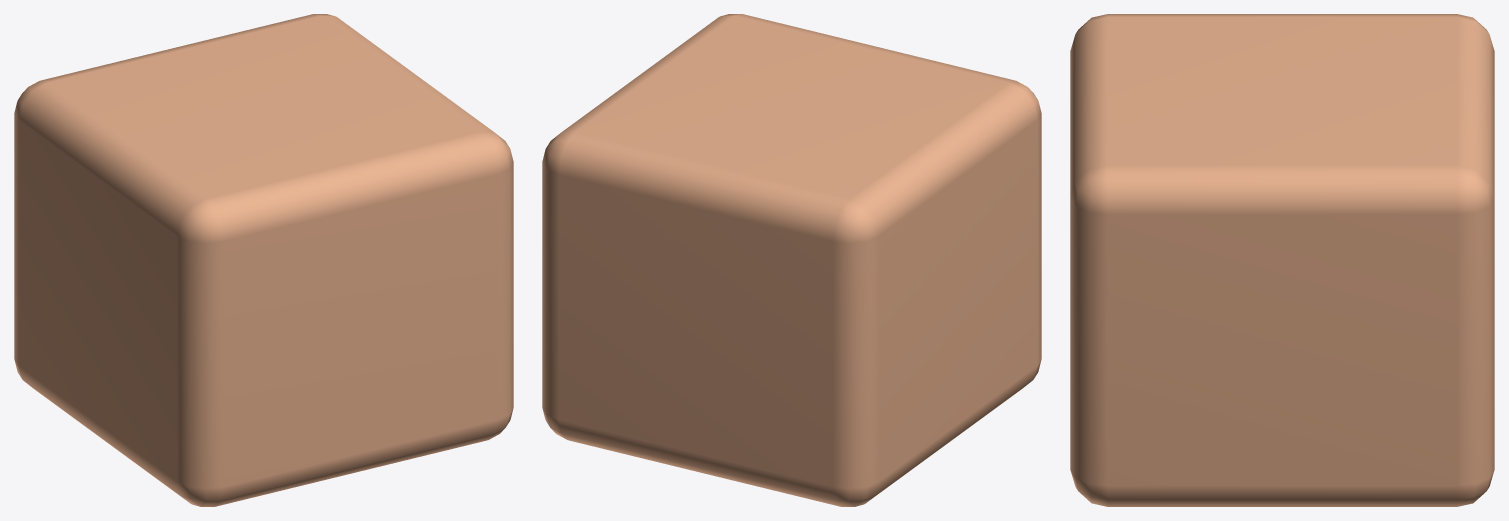
File: road block.fbx
The picture shows the model from 3 angles, left to right: view 1: azimuth 30°, elevation 25°; view 2: azimuth 150°, elevation 25°; view 3: azimuth 270°, elevation 25°; orthographic projection. The views are drawn at different scales.
Parts seen in each view (by area): view 1: pCube1; view 2: pCube1; view 3: pCube1.
Boxes of the visible parts, x1,y1,x2,y2 form: pCube1: (14,14,513,506); pCube1: (542,14,1041,506); pCube1: (1070,14,1494,506).
Size of the model in its own units: 100 by 88.06 by 100.
